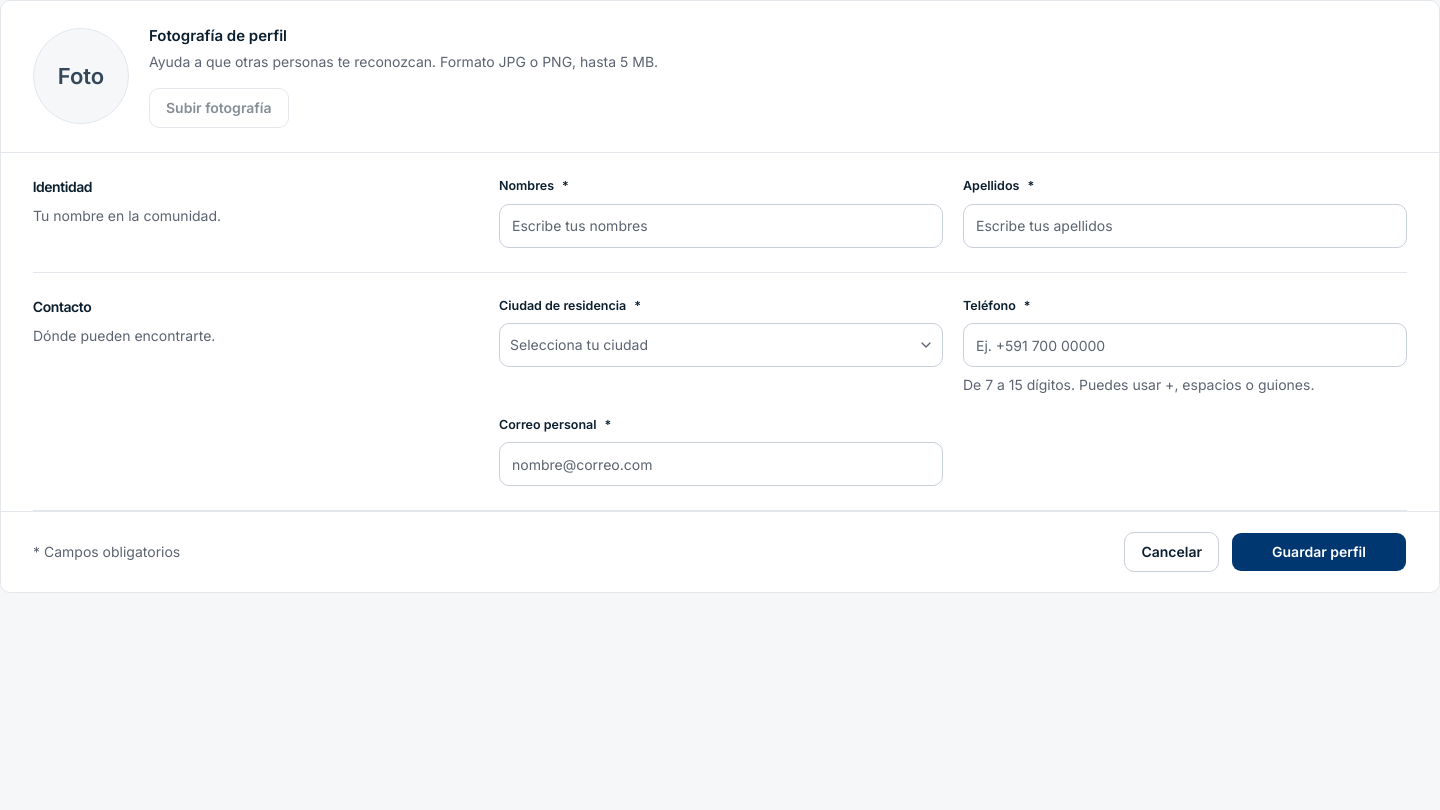
PersonalInfoForm › renders the personal information card with all the fields
Expected: the element "Identidad" is shown, left=33, top=177, right=1407, bottom=273
Expected: the element "Contacto" is shown, left=33, top=272, right=1407, bottom=511
Click the dropdown named "Ciudad de residencia" at (579, 345), box left=499, top=323, right=943, bottom=367
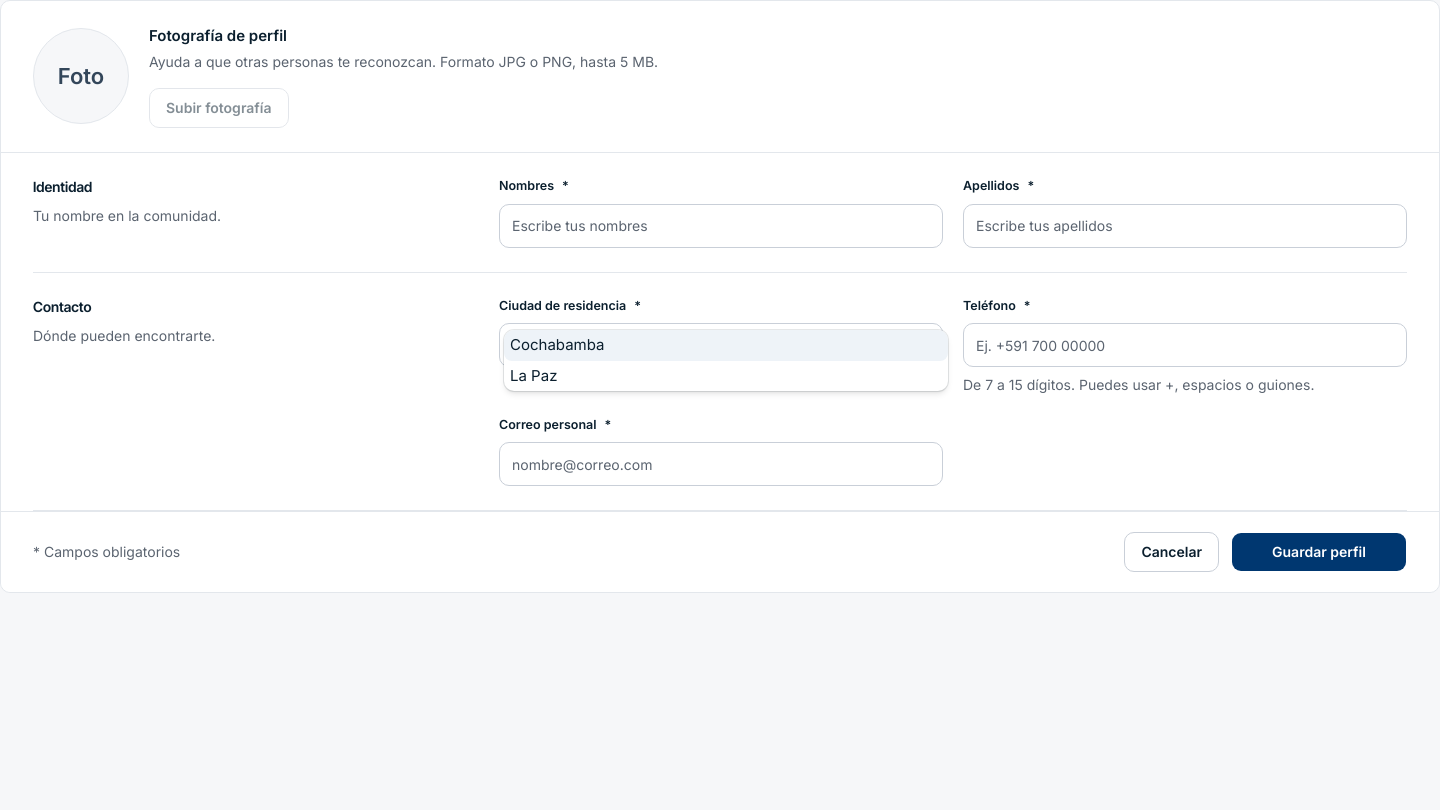
Expected: the option "Cochabamba" is shown, left=504, top=330, right=948, bottom=360
